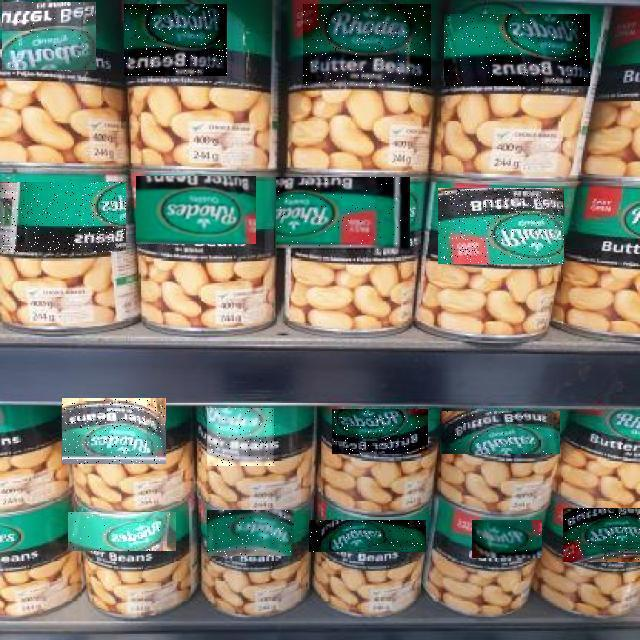Beans: (444, 14, 590, 86), (303, 5, 431, 87), (276, 178, 410, 252), (438, 188, 564, 264), (0, 182, 126, 252), (136, 176, 256, 244), (124, 4, 227, 76), (62, 398, 166, 464), (2, 2, 96, 70), (440, 411, 560, 454), (332, 409, 428, 454), (69, 512, 177, 551), (563, 509, 640, 563), (208, 510, 296, 556), (208, 408, 276, 466), (309, 520, 426, 552), (472, 520, 542, 558)
